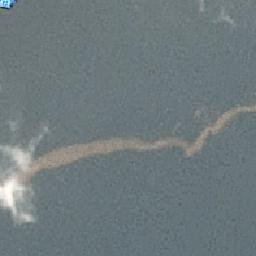cloud: (1, 124, 35, 226)
debris: (35, 139, 95, 170), (100, 135, 157, 155), (163, 132, 211, 155), (230, 103, 255, 115), (211, 113, 227, 130)
